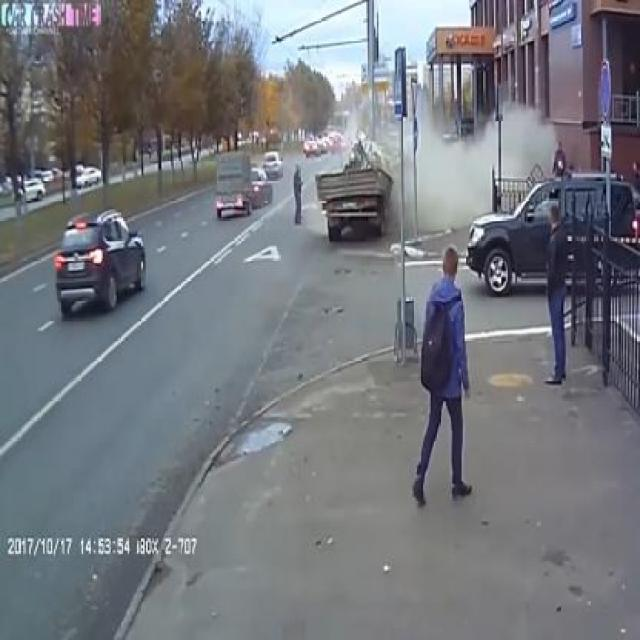accident: (314, 125, 484, 233)
